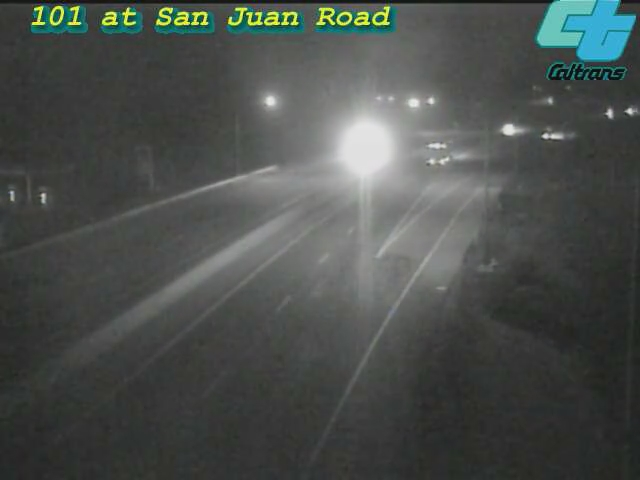vehicle: (337, 122, 387, 172), (487, 105, 537, 155), (527, 112, 577, 162), (419, 125, 469, 175), (587, 90, 637, 140)
